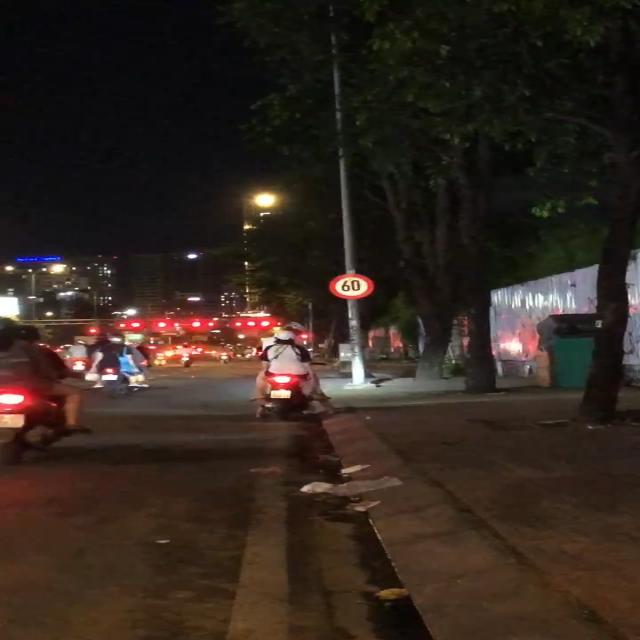Bien bao toc do toi da cho phep: (330, 268, 378, 302)
